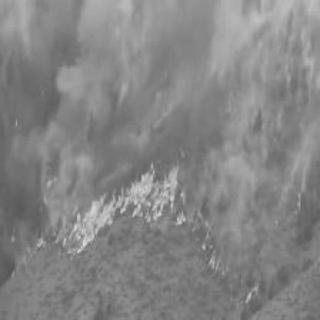Fire: (1, 110, 308, 304)
Smoke: (44, 2, 306, 136)
